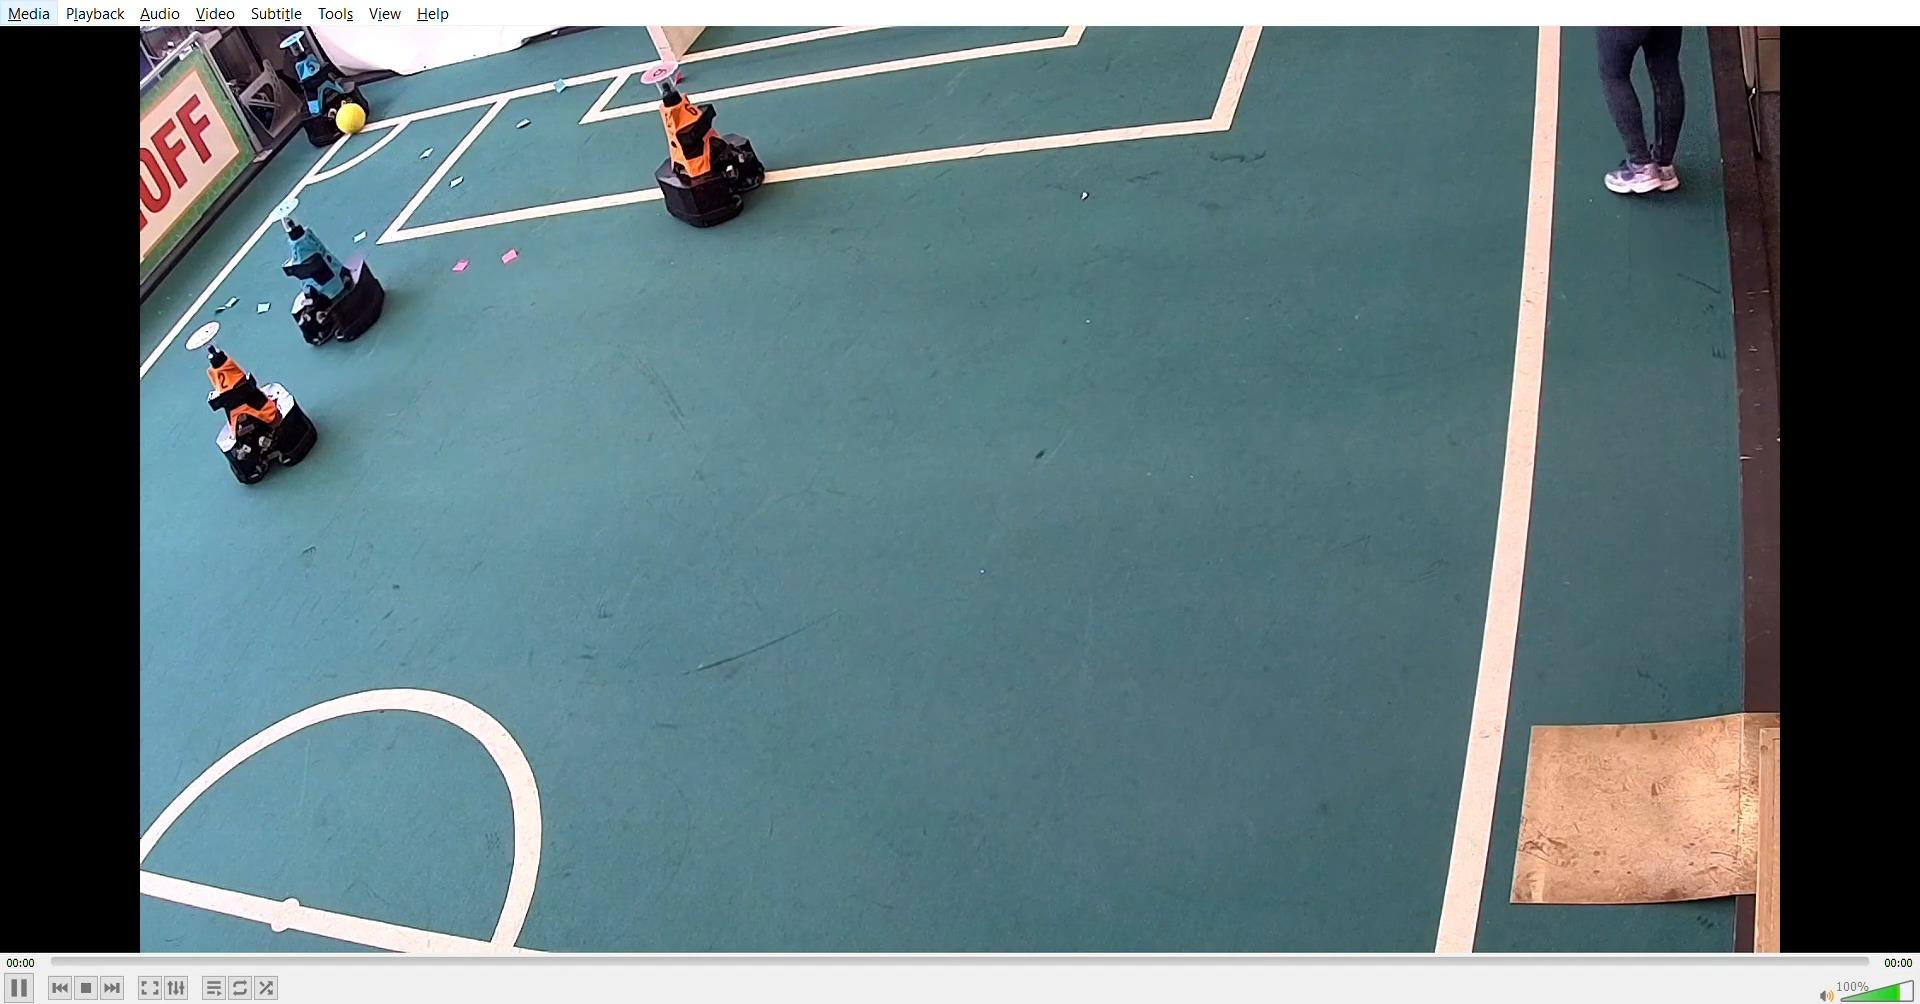Ball: (333, 99, 368, 136)
Team_Blue: (267, 194, 389, 349), (273, 32, 381, 147)
Team_Red: (637, 56, 772, 230), (187, 320, 320, 491)
